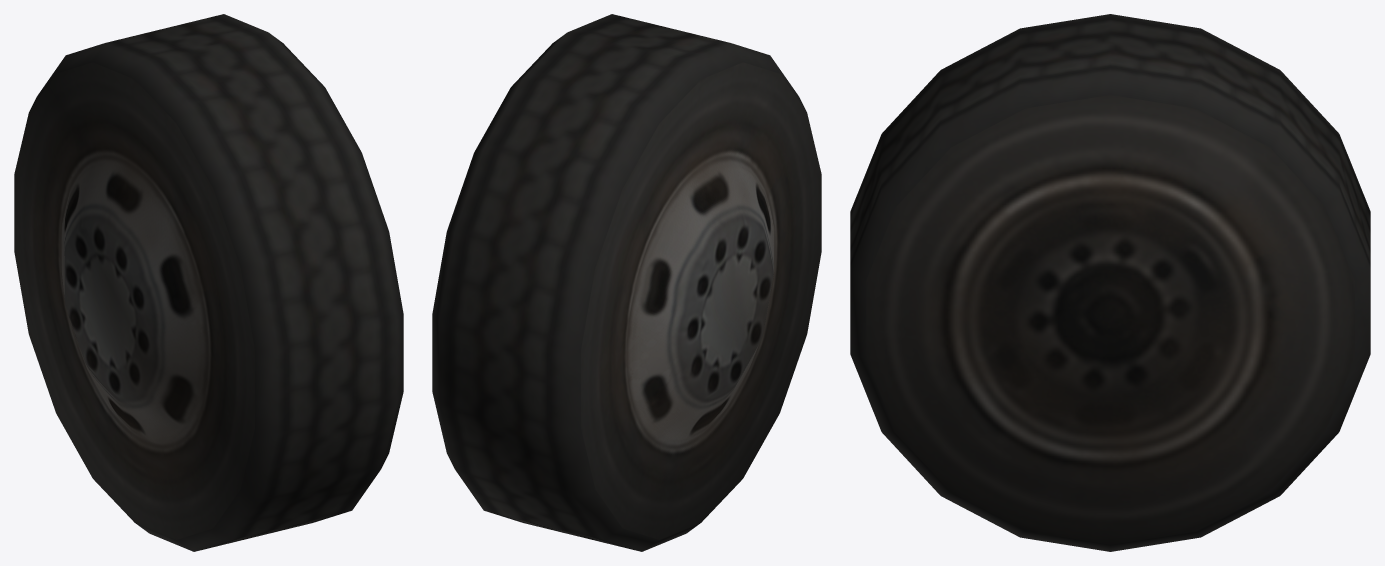
File: vehicles_SemiTruck_Wheel.fbx
The picture shows the model from 3 angles, left to right: view 1: azimuth 30°, elevation 25°; view 2: azimuth 150°, elevation 25°; view 3: azimuth 270°, elevation 25°; orthographic projection.
Visible parts, largest first — view 1: wheels; view 2: wheels; view 3: wheels.
Boxes of the visible parts, box(x1,y1,x2,y2) form: wheels: box(14, 14, 403, 551); wheels: box(432, 14, 821, 551); wheels: box(850, 14, 1370, 551).
Bounding box in the file's own units: 0.3181 × 0.8153 × 0.8029.
1 material, 1 textured.
